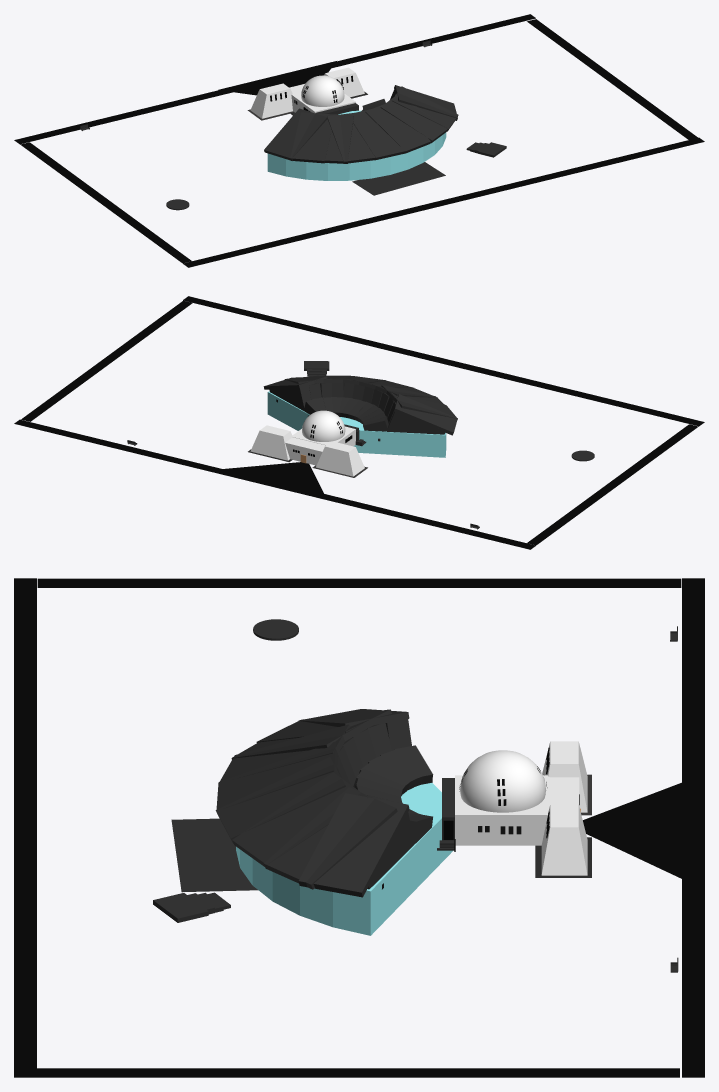
Rendered from asmundarsafn_cpy_to_test_5.obj.
The picture shows the model from 3 angles, top to bottom: view 1: azimuth 30°, elevation 25°; view 2: azimuth 150°, elevation 25°; view 3: azimuth 270°, elevation 25°; orthographic projection. The views are drawn at different scales.
Visible parts, largest first — view 1: Plane.028, syningarsalur, Plane.027, Plane.030, Plane.029, Plane.035, Cube.048, Cube.043, Cube.042, Cube.044, pavement, Cube.040 (+8 smaller); view 2: Plane.028, syningarsalur, Plane.027, pavement, Plane.030, Plane.029, h_hlid, Sphere, Cube.042, Cube.033, v_hlid, Cube.031 (+3 smaller); view 3: Plane.028, Plane.027, syningarsalur, pavement, Plane.030, Plane.029, Cube.047, Plane.035, Sphere, Cube.046, innanhus, Cube.045 (+16 smaller).
Part boxes in pixels (box(x1,y1,x2,y2)): Plane.028: box(183, 137, 704, 267); syningarsalur: box(267, 110, 446, 180); Plane.027: box(14, 14, 535, 144); Plane.030: box(20, 142, 191, 263); Plane.029: box(527, 19, 697, 139); Plane.035: box(352, 162, 445, 195); Cube.048: box(290, 112, 334, 163); Cube.043: box(348, 107, 405, 160); Cube.042: box(264, 108, 327, 160); Cube.044: box(365, 101, 430, 153); pavement: box(218, 61, 336, 95); Cube.040: box(327, 112, 375, 163); Plane.028: box(183, 296, 704, 426); syningarsalur: box(267, 391, 446, 457); Plane.027: box(14, 419, 535, 549); pavement: box(207, 462, 326, 499); Plane.030: box(527, 424, 698, 545); Plane.029: box(21, 300, 192, 421); h_hlid: box(316, 441, 364, 476); Sphere: box(302, 410, 345, 441); Cube.042: box(394, 394, 457, 435); Cube.033: box(363, 411, 445, 434); v_hlid: box(250, 425, 292, 460); Cube.031: box(269, 385, 321, 414); Plane.028: box(14, 578, 36, 1077); Plane.027: box(682, 578, 704, 1077); syningarsalur: box(236, 783, 452, 935); pavement: box(583, 774, 704, 889); Plane.030: box(37, 578, 681, 587); Plane.029: box(37, 1068, 679, 1077); Cube.047: box(298, 793, 409, 897); Plane.035: box(171, 818, 257, 892); Sphere: box(460, 750, 545, 812); Cube.046: box(264, 787, 397, 889); innanhus: box(455, 775, 549, 845); Cube.045: box(232, 772, 367, 869).
Size of the model in its own units: 103 by 9.3 by 60.12.
